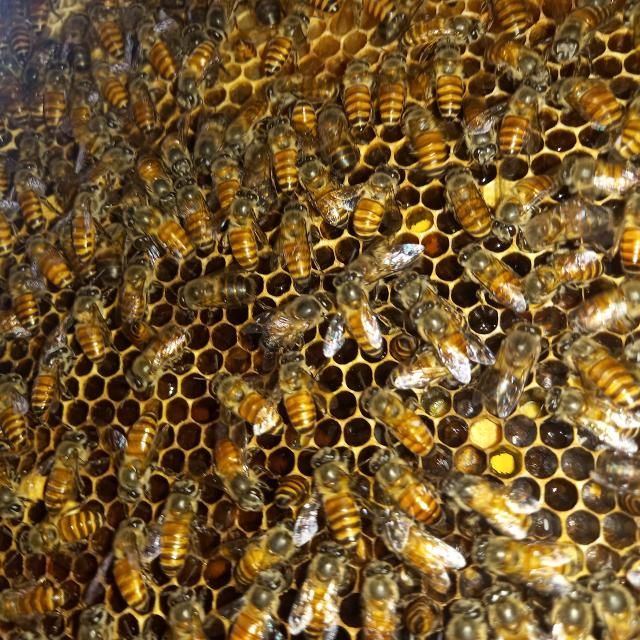honeybee: (373, 502, 459, 594), (196, 421, 277, 517), (366, 434, 441, 536), (305, 442, 365, 560), (561, 329, 640, 417), (292, 536, 356, 640), (445, 467, 533, 541), (546, 380, 640, 448), (483, 313, 547, 412), (114, 321, 204, 391), (358, 385, 451, 450), (107, 397, 164, 502), (480, 528, 583, 586), (386, 262, 475, 326), (326, 269, 384, 363), (413, 294, 486, 368), (30, 421, 90, 511), (452, 234, 520, 313), (549, 0, 636, 60), (295, 142, 352, 231), (211, 358, 279, 431), (11, 505, 109, 555), (158, 464, 210, 557), (344, 220, 422, 282), (214, 563, 276, 640), (526, 242, 606, 299), (260, 286, 332, 349), (271, 346, 324, 429), (129, 207, 193, 274), (550, 76, 616, 138), (354, 557, 403, 640), (169, 266, 261, 310), (0, 576, 91, 620), (528, 196, 612, 243), (260, 4, 311, 80), (364, 344, 440, 394), (396, 6, 490, 46), (73, 282, 114, 372), (110, 510, 148, 606), (551, 0, 616, 56), (497, 76, 539, 162), (590, 568, 640, 639), (276, 198, 317, 284), (24, 226, 70, 301), (445, 158, 491, 232), (28, 342, 73, 417), (478, 578, 532, 640), (355, 164, 398, 241), (176, 172, 217, 251), (432, 39, 471, 122), (223, 188, 262, 270), (565, 159, 640, 201), (491, 173, 554, 223), (407, 109, 452, 174), (322, 104, 366, 170), (186, 30, 226, 100), (342, 58, 375, 142), (112, 257, 152, 326), (612, 192, 640, 290), (459, 98, 497, 170), (0, 375, 34, 455), (152, 584, 200, 640), (135, 19, 179, 80), (71, 181, 106, 257), (228, 87, 270, 150), (5, 265, 46, 329), (128, 74, 172, 133), (42, 58, 76, 131), (443, 581, 483, 640), (588, 455, 640, 499), (90, 141, 138, 188), (137, 146, 169, 214), (14, 162, 48, 225), (261, 114, 291, 183), (2, 0, 29, 76), (90, 50, 122, 114), (382, 49, 407, 130), (610, 94, 640, 160), (553, 586, 587, 640), (85, 0, 117, 57), (266, 472, 312, 511), (409, 583, 440, 640), (0, 72, 30, 128), (28, 0, 61, 48), (290, 84, 319, 137), (73, 602, 110, 640), (360, 0, 405, 31), (73, 112, 118, 141), (486, 0, 526, 31), (479, 46, 544, 64), (0, 215, 16, 261), (310, 0, 344, 19)
